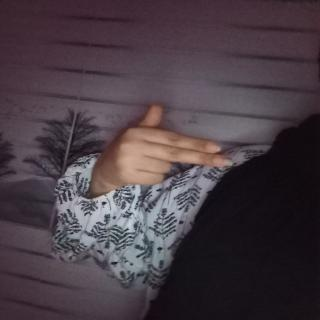GHAYN: (71, 100, 237, 216)
